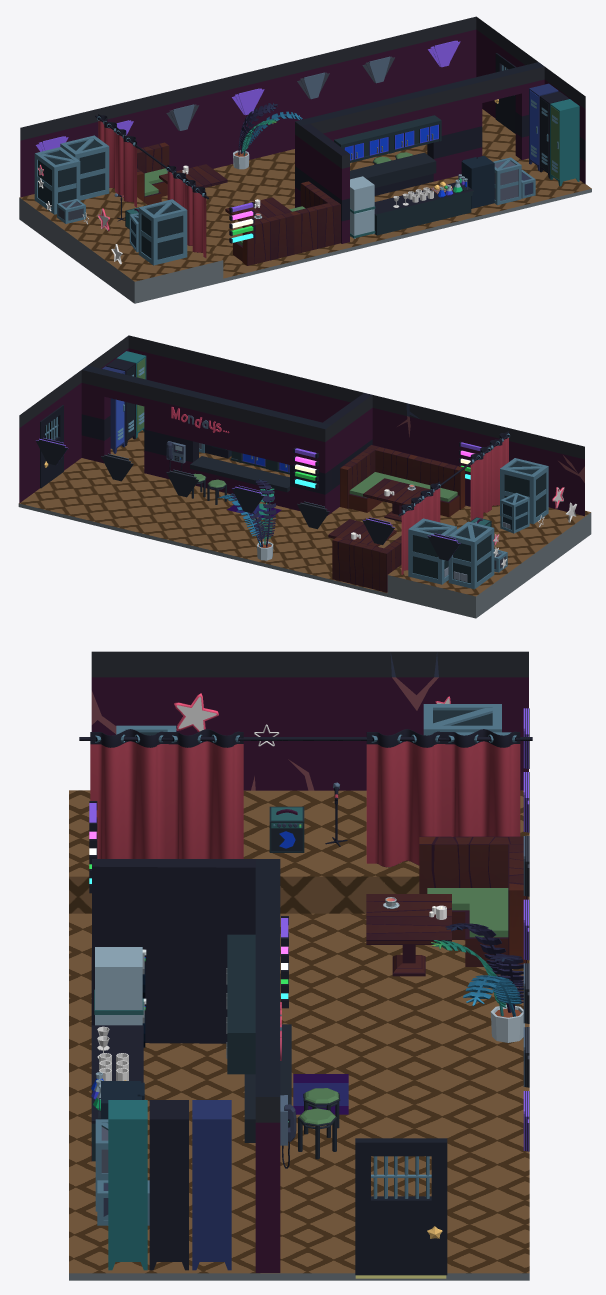
File: INT_Mondays.fbx
3 views of the same model, one above another, from view 1: azimuth 30°, elevation 25°; view 2: azimuth 150°, elevation 25°; view 3: azimuth 270°, elevation 25° (orthographic). The views are drawn at different scales.
Visible parts, largest first — view 1: Cube.453, Cube.451, Cube.460, LightsArtDecoish.006, Crates.016, Cube.456, Cube.487, Crates.021, StuffLocker.005, Curtain.002, Crates.022, Curtain.001 (+14 smaller); view 2: Cube.453, Cube.451, LightsArtDecoish.006, Cube.461, Cube.459, Crates.021, Cube.460, Curtain.001, Crates.016, Crates.022, Curtain.002, Plants.036 (+11 smaller); view 3: Cube.451, Cube.453, Curtain.001, Curtain.002, BoringDoors.002, Cube.461, StuffLocker.004, StuffLocker.003, StuffLocker.005, Cube.455, Cube.487, Plants.036 (+13 smaller).
Boxes of the visible parts, x1,y1,x2,y2 form: Cube.453: (20, 16, 585, 243); Cube.451: (19, 109, 591, 303); Cube.460: (242, 201, 340, 265); LightsArtDecoish.006: (36, 40, 460, 151); Crates.016: (138, 199, 187, 265); Cube.456: (374, 182, 473, 235); Cube.487: (334, 115, 441, 162); Crates.021: (34, 147, 80, 214); StuffLocker.005: (550, 99, 579, 186); Curtain.002: (97, 114, 136, 207); Crates.022: (60, 135, 109, 200); Curtain.001: (166, 165, 206, 257); Cube.453: (19, 335, 584, 516); Cube.451: (18, 430, 591, 618); LightsArtDecoish.006: (35, 438, 460, 560); Cube.461: (332, 535, 401, 592); Cube.459: (340, 448, 459, 516); Crates.021: (448, 521, 494, 589); Cube.460: (367, 445, 465, 509); Curtain.001: (470, 431, 509, 520); Crates.016: (500, 458, 548, 524); Crates.022: (408, 518, 456, 584); Curtain.002: (401, 481, 440, 574); Plants.036: (218, 479, 276, 547); Cube.451: (69, 790, 529, 1280); Cube.453: (91, 651, 528, 1278); Curtain.001: (90, 729, 243, 858); Curtain.002: (366, 729, 520, 867); BoringDoors.002: (355, 1138, 447, 1275); Cube.461: (419, 836, 527, 966); StuffLocker.004: (149, 1100, 188, 1270); StuffLocker.003: (192, 1100, 231, 1270); StuffLocker.005: (108, 1100, 147, 1270); Cube.455: (366, 894, 451, 976); Cube.487: (226, 934, 255, 1074); Plants.036: (431, 923, 523, 1016).
Bounding box in the file's own units: 2542 × 477 × 1103.
